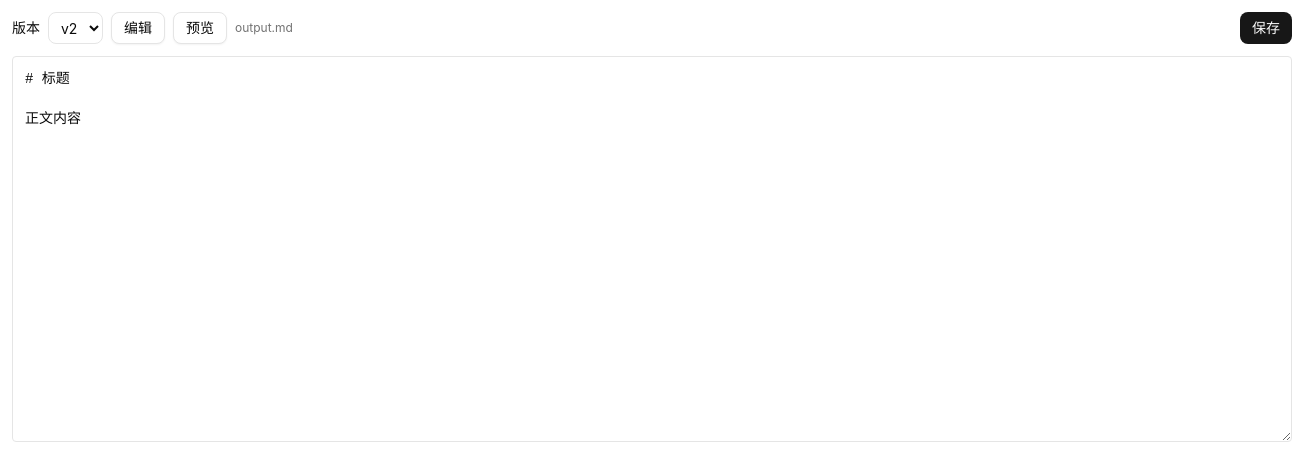
Scenario: MarkdownEditor › switches to preview and renders markdown
The width and height of the screenshot is (1304, 459).
Click the button "预览": (200, 28) [173,12,227,44]
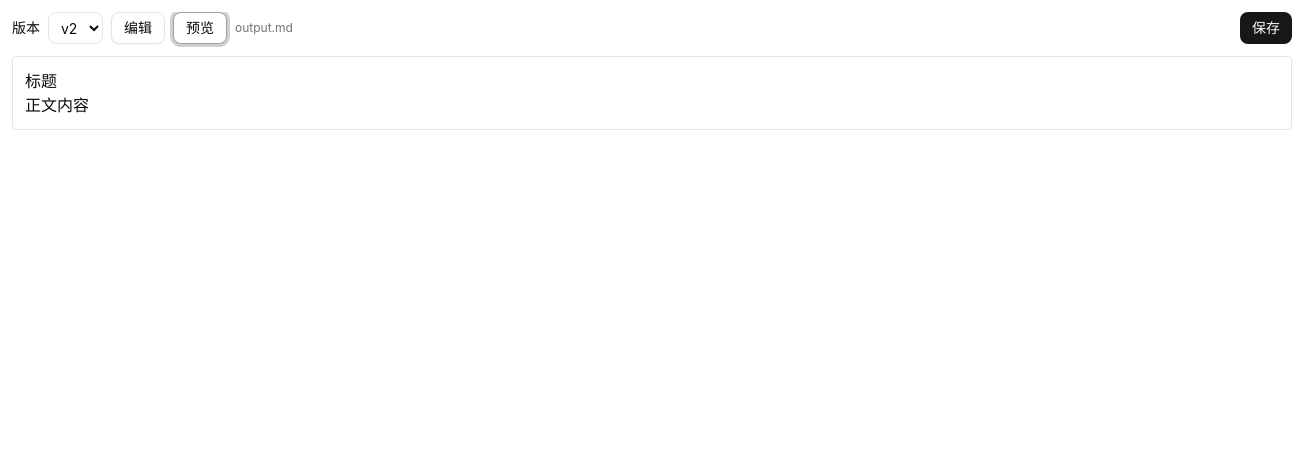
Now the text box labelled "产物内容" is gone
Now the heading "标题" is shown, box [25,71,57,91]
